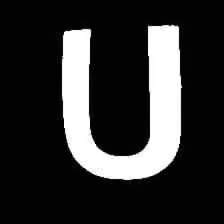LTR_U: (44, 14, 196, 189)
